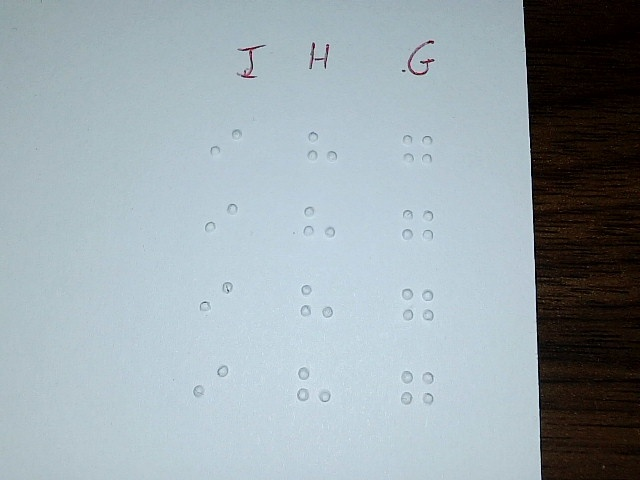G: (400, 125, 436, 180), (401, 202, 437, 257), (401, 280, 437, 335), (400, 364, 436, 419)
H: (296, 360, 333, 417), (304, 122, 340, 177), (302, 198, 338, 253), (299, 278, 335, 333)
I: (199, 272, 236, 332), (192, 355, 229, 415), (208, 119, 244, 174), (204, 195, 240, 250)
